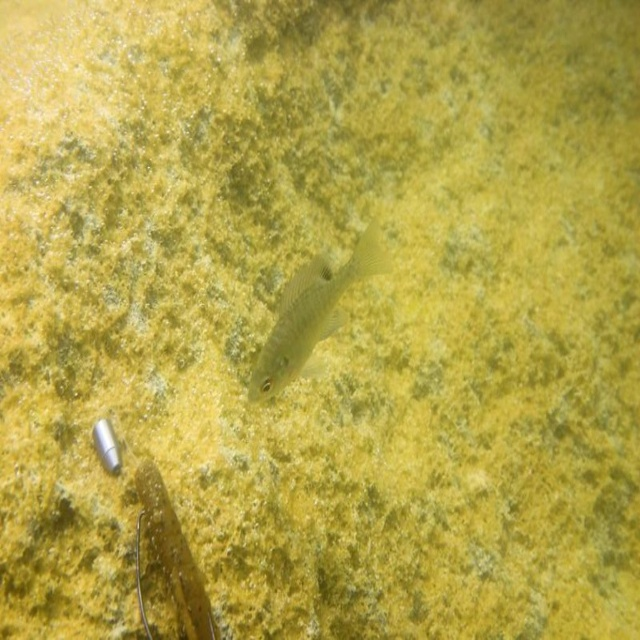Fish: (245, 217, 390, 407)
